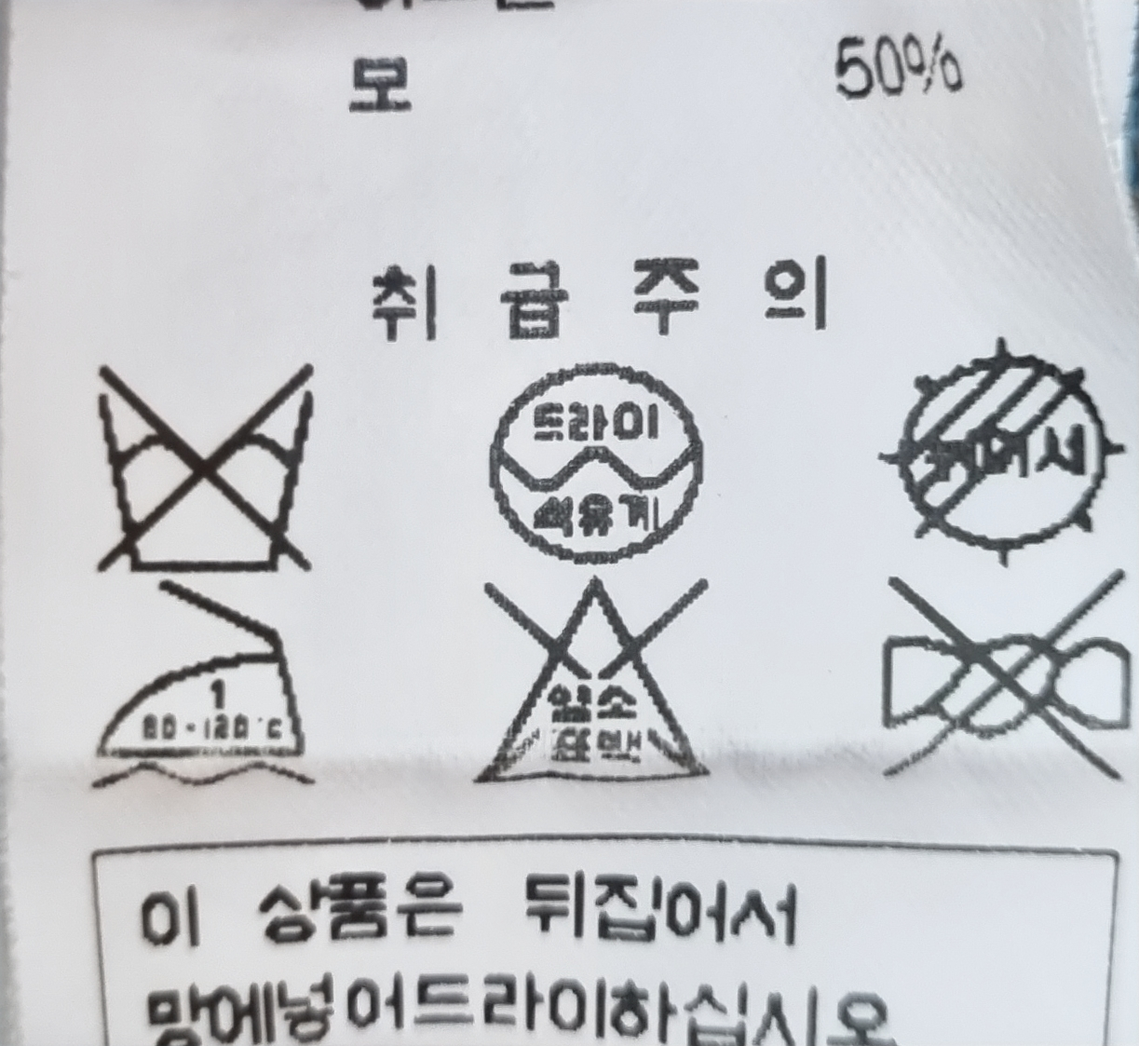KR_dry_clean_petroleum: (473, 347, 713, 574)
KR_flat_dry_in_shade: (869, 326, 1134, 578)
KR_iron_low_temp_with_cloth: (56, 574, 364, 801)
KR_no_chlorine_bleach: (451, 574, 736, 799)
KR_no_wash: (70, 340, 322, 580)
KR_no_wring: (864, 569, 1136, 785)
